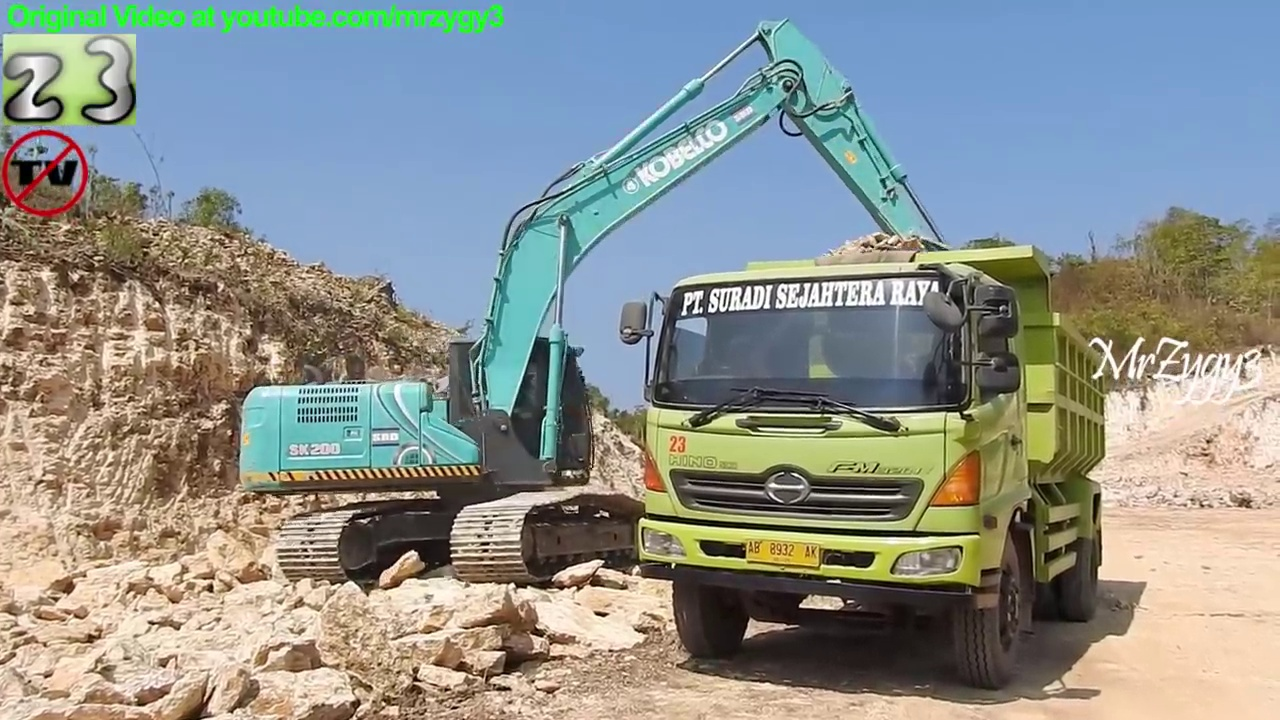excavator: (229, 12, 999, 599)
truck: (612, 237, 1116, 696)
